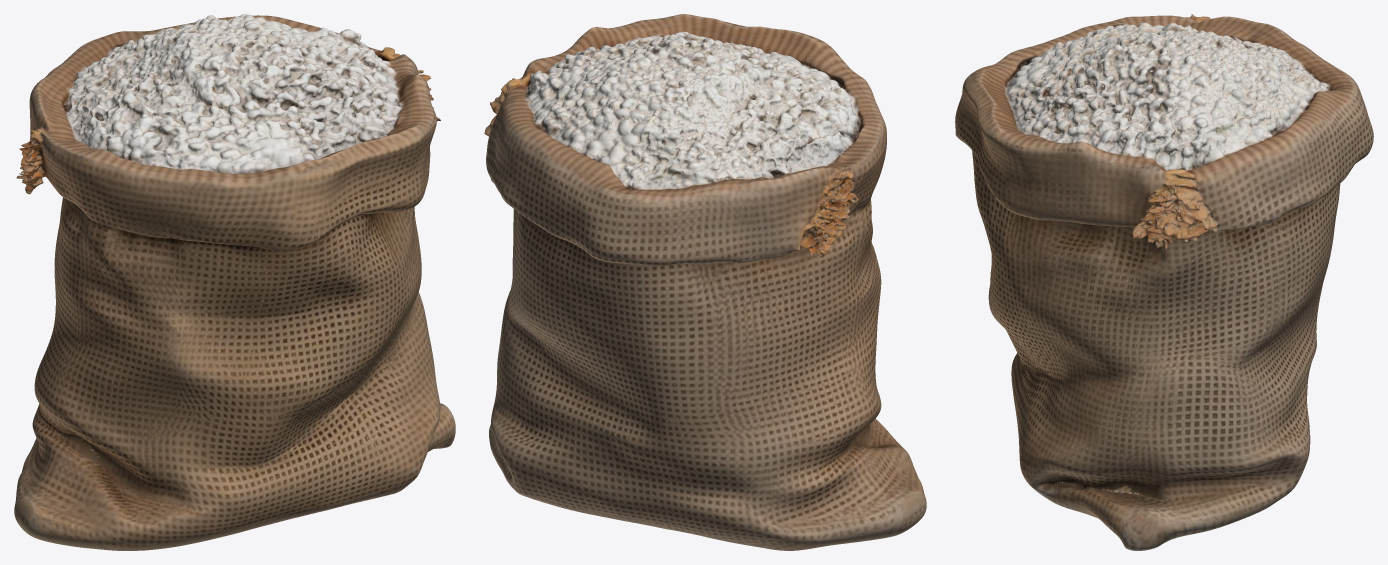
Rendered from Rice Ration Sack.glb.
The picture shows the model from 3 angles, left to right: view 1: azimuth 30°, elevation 25°; view 2: azimuth 150°, elevation 25°; view 3: azimuth 270°, elevation 25°; orthographic projection. The views are drawn at different scales.
Bounding box in the file's own units: 2 × 1.99 × 1.79.
Materials: 1 (1 with a texture image).
